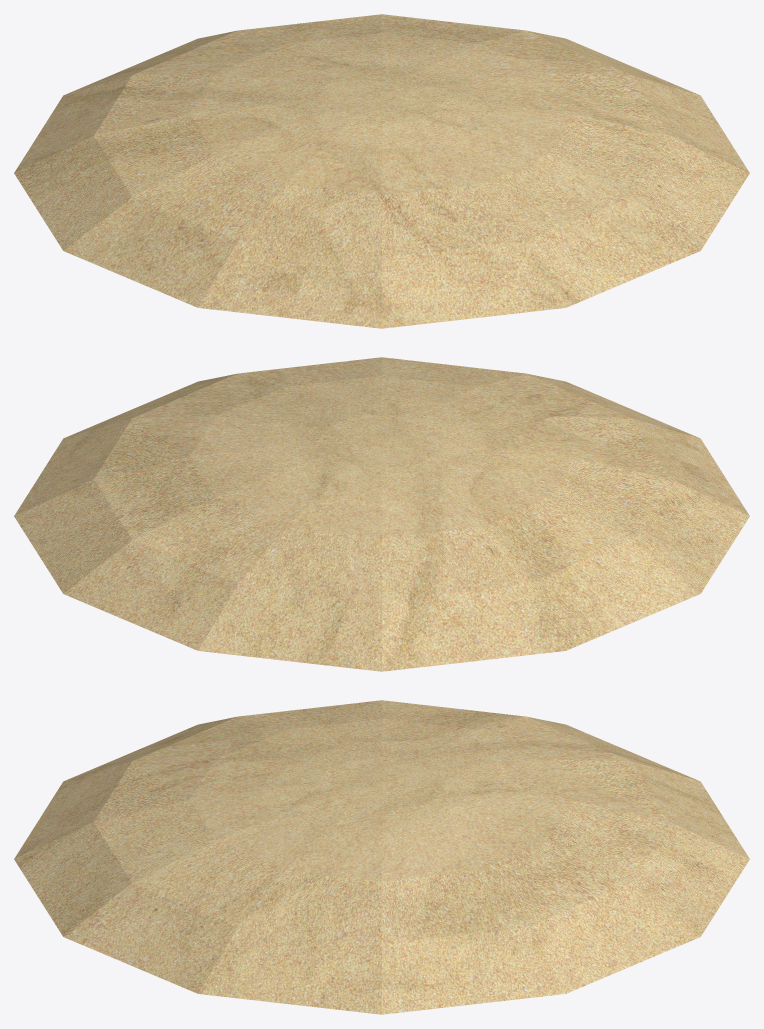
Rendered from sand.obj.
3 renders of one model, top to bottom at view 1: azimuth 30°, elevation 25°; view 2: azimuth 150°, elevation 25°; view 3: azimuth 270°, elevation 25°, orthographic.
Parts seen in each view (by area): view 1: Plane; view 2: Plane; view 3: Plane.
Boxes of the visible parts, x1,y1,x2,y2 form: Plane: [14, 14, 749, 328]; Plane: [14, 357, 749, 671]; Plane: [14, 700, 749, 1014].
Size of the model in its own units: 98.65 by 11.42 by 98.65.
